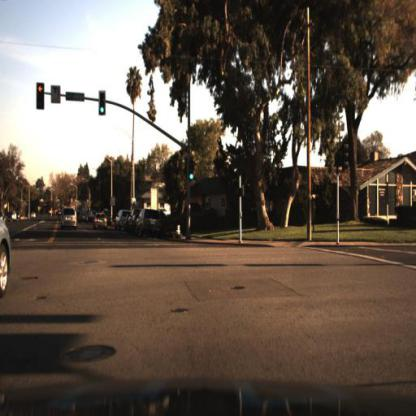car: (1, 164, 13, 346), (1, 189, 13, 320), (135, 208, 165, 238), (126, 205, 141, 237), (61, 205, 78, 230), (126, 207, 139, 238), (93, 211, 110, 234), (113, 207, 125, 236), (94, 211, 109, 234)
trafficLight-Green: (98, 88, 108, 120), (188, 163, 195, 186), (99, 102, 107, 120), (188, 169, 196, 185)
trafficLight-RedLeft: (36, 79, 46, 109), (37, 82, 45, 103)
